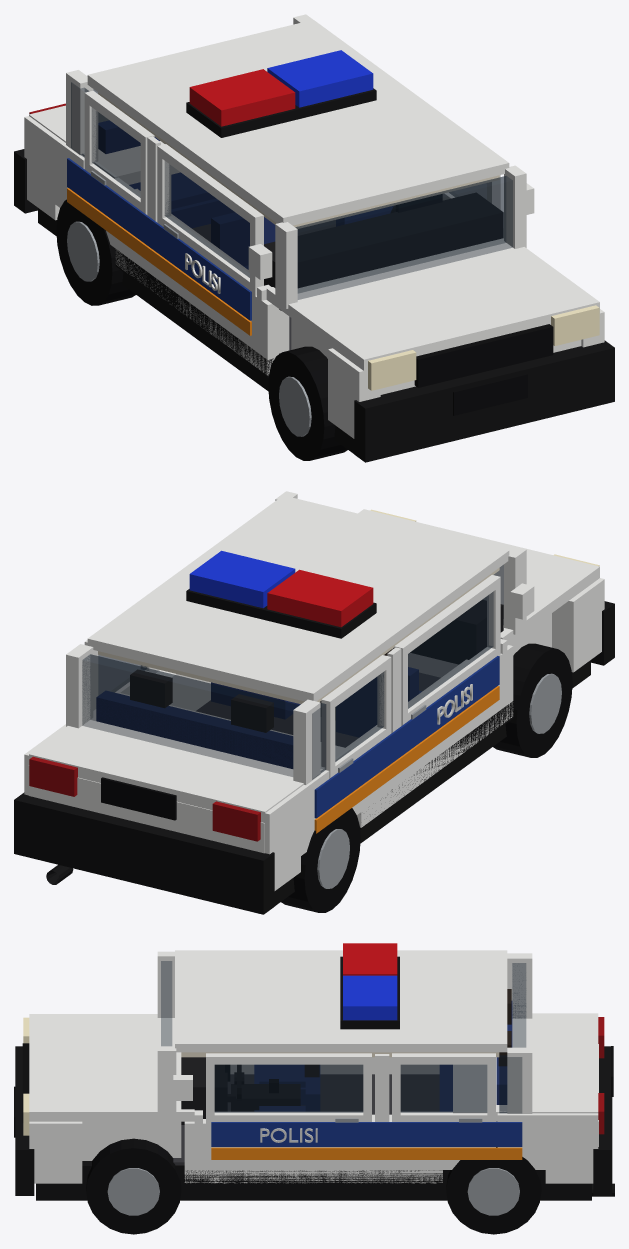
The model's file is mobil_polisi.glb.
The picture shows the model from 3 angles, top to bottom: view 1: azimuth 30°, elevation 25°; view 2: azimuth 150°, elevation 25°; view 3: azimuth 270°, elevation 25°; orthographic projection. The views are drawn at different scales.
Parts seen in each view (by area): view 1: Roof, Hood, Windshield, Bumper_F, IntDash, PoliceStripe_L, Door_FL, Wheel_FL, SideSkin_L_-0.39, Door_FL_Glass, Grille, LightBar_Red (+28 smaller); view 2: Roof, Bumper_R, RearGlass, TrunkLid, Seat_Rear, Door_FL, PoliceStripe_L, Door_FL_Glass, Hood, Wheel_FL, LightBar_Red, RearPanel (+34 smaller); view 3: Roof, Hood, TrunkLid, PoliceStripe_R, Door_FR_Glass, SideSkin_R_-0.39, Chassis, Wheel_FR, Door_FR, Door_RR_Glass, Wheel_RR, PoliceStripeO_R (+32 smaller).
Part boxes in pixels (box(x1,y1,x2,y2)): Roof: box(87, 19, 509, 225); Hood: box(266, 238, 599, 370); Windshield: box(295, 176, 512, 299); Bumper_F: box(354, 340, 614, 462); IntDash: box(264, 192, 503, 310); PoliceStripe_L: box(67, 158, 251, 320); Door_FL: box(157, 144, 263, 309); Wheel_FL: box(268, 346, 347, 460); SideSkin_L_-0.39: box(115, 189, 289, 375); Door_FL_Glass: box(164, 161, 249, 277); Grille: box(414, 324, 553, 387); LightBar_Red: box(189, 69, 295, 126); Roof: box(87, 495, 509, 701); Bumper_R: box(14, 792, 274, 914); RearGlass: box(82, 654, 299, 776); TrunkLid: box(29, 692, 350, 822); Seat_Rear: box(96, 691, 293, 768); Door_FL: box(394, 575, 500, 781); PoliceStripe_L: box(314, 656, 499, 818); Door_FL_Glass: box(408, 592, 493, 708); Hood: box(358, 509, 599, 645); Wheel_FL: box(493, 643, 572, 757); LightBar_Red: box(267, 569, 373, 627); RearPanel: box(28, 766, 264, 853); Roof: box(175, 950, 507, 1052); Hood: box(29, 1014, 194, 1121); TrunkLid: box(453, 1014, 598, 1121); PoliceStripe_R: box(211, 1122, 522, 1146); Door_FR_Glass: box(214, 1064, 363, 1112); SideSkin_R_-0.39: box(184, 1114, 442, 1183); Chassis: box(36, 1161, 591, 1200); Wheel_FR: box(86, 1138, 181, 1234); Door_FR: box(206, 1053, 371, 1169); Door_RR_Glass: box(400, 1064, 487, 1112); Wheel_RR: box(446, 1147, 541, 1234); PoliceStripeO_R: box(211, 1147, 522, 1159).
Size of the model in its own units: 0.812 by 0.694 by 1.82.
